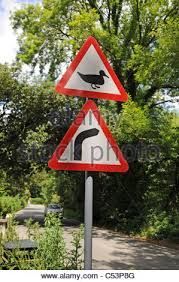Bend_to_right: (46, 99, 130, 174)
